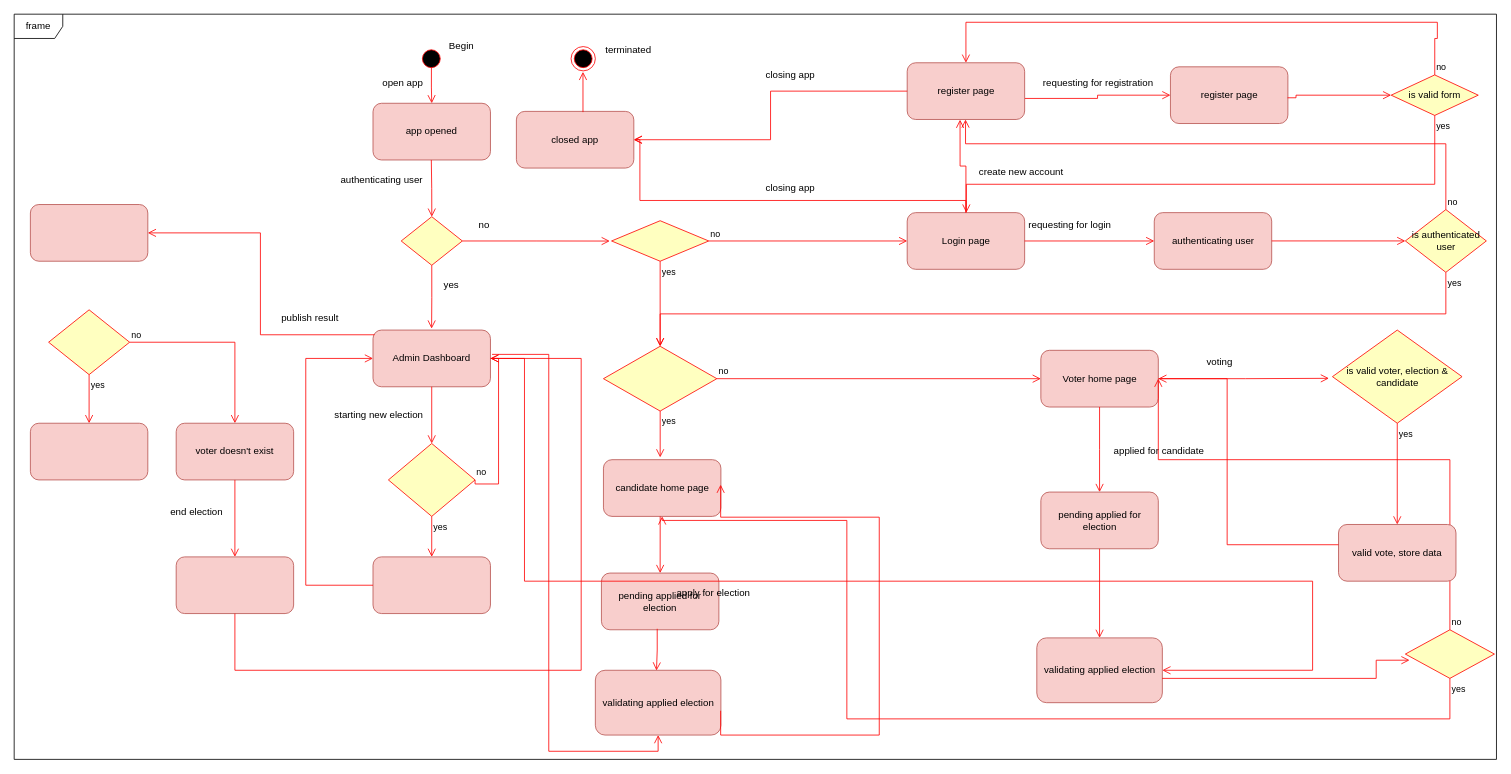
Image size: 1511x774. Some labels were removed from this diagram. The centre of each missing label's shape, as x and y in pixels:
doest voter exist: point (89, 342)
election ended: point (234, 585)
election started: point (431, 585)
evaluating result: point (89, 232)
is approved: point (1449, 653)
is candidate: point (660, 378)
Is User: point (660, 240)
isAdmin: point (431, 240)
published result: point (89, 451)
validating election_id: point (431, 479)
